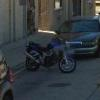Motorcycle: (21, 36, 81, 75)
